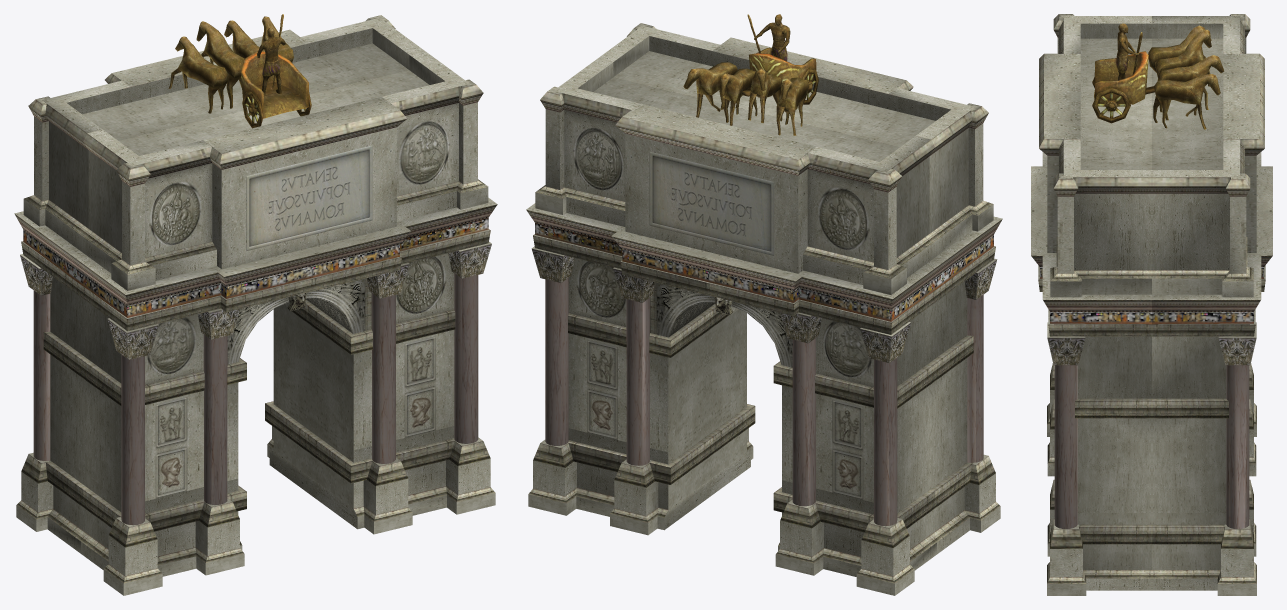
The model's file is triumphal_arch.glb.
3 renders of one model, left to right at view 1: azimuth 30°, elevation 25°; view 2: azimuth 150°, elevation 25°; view 3: azimuth 270°, elevation 25°, orthographic. The views are drawn at different scales.
Visible parts, largest first — view 1: triumphal_arch_part0, triumphal_arch_part1; view 2: triumphal_arch_part0, triumphal_arch_part1; view 3: triumphal_arch_part0, triumphal_arch_part1.
Part boxes in pixels (box(x1,y1,x2,y2)): triumphal_arch_part0: box(14, 15, 497, 595); triumphal_arch_part1: box(168, 14, 311, 128); triumphal_arch_part0: box(526, 23, 1002, 595); triumphal_arch_part1: box(683, 14, 818, 135); triumphal_arch_part0: box(1031, 14, 1272, 595); triumphal_arch_part1: box(1092, 23, 1224, 129).
Size of the model in its own units: 4 by 5.09 by 2.3.
Materials: 2 (2 with a texture image).
